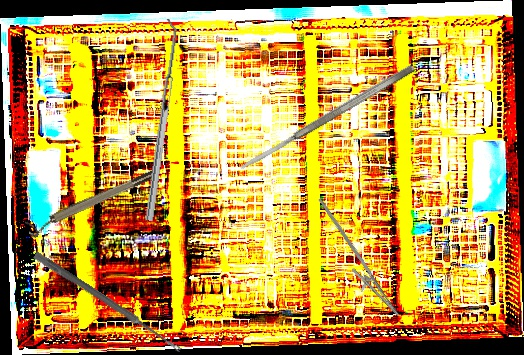Fixation Ring: (24, 166, 161, 240)
Needle Holder: (297, 197, 413, 324)
Spatula Surgical: (237, 62, 417, 173), (138, 18, 181, 222)
Surgical Spoon: (32, 251, 184, 354)
